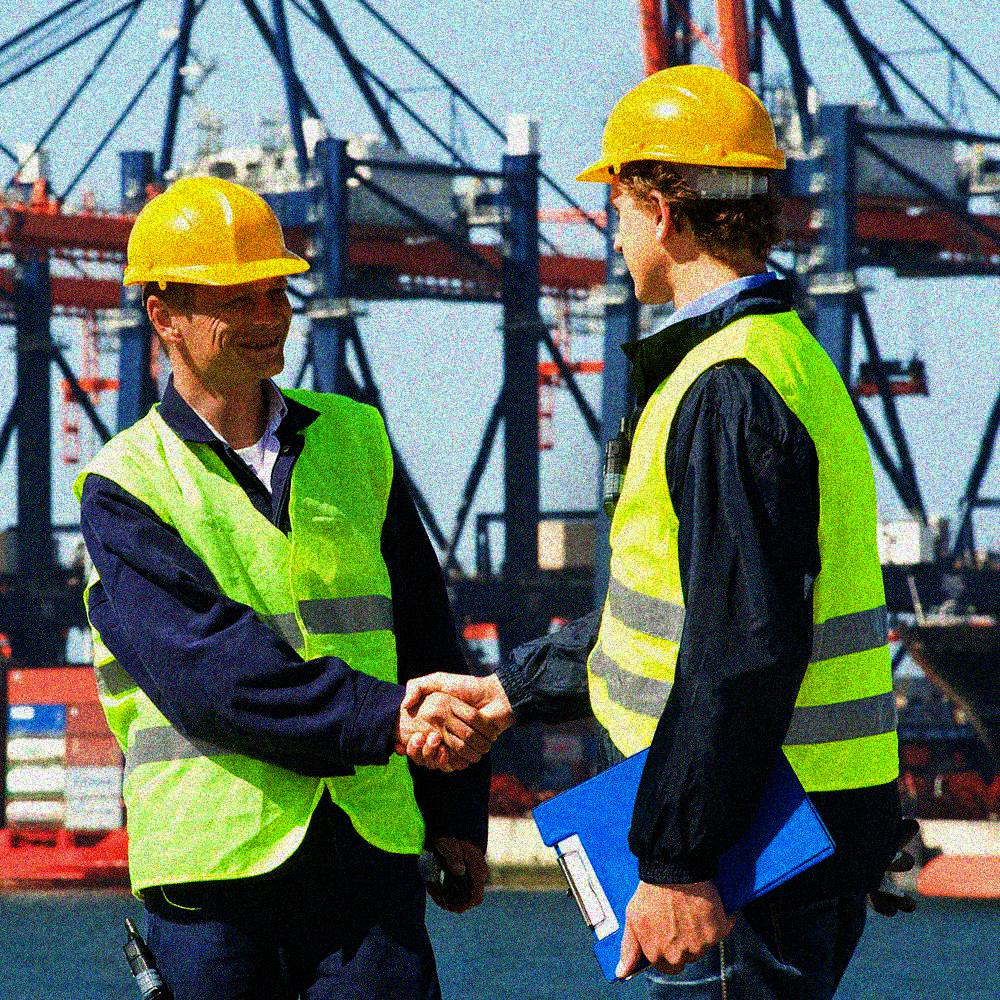helmet: (574, 64, 795, 310), (114, 174, 315, 385)
